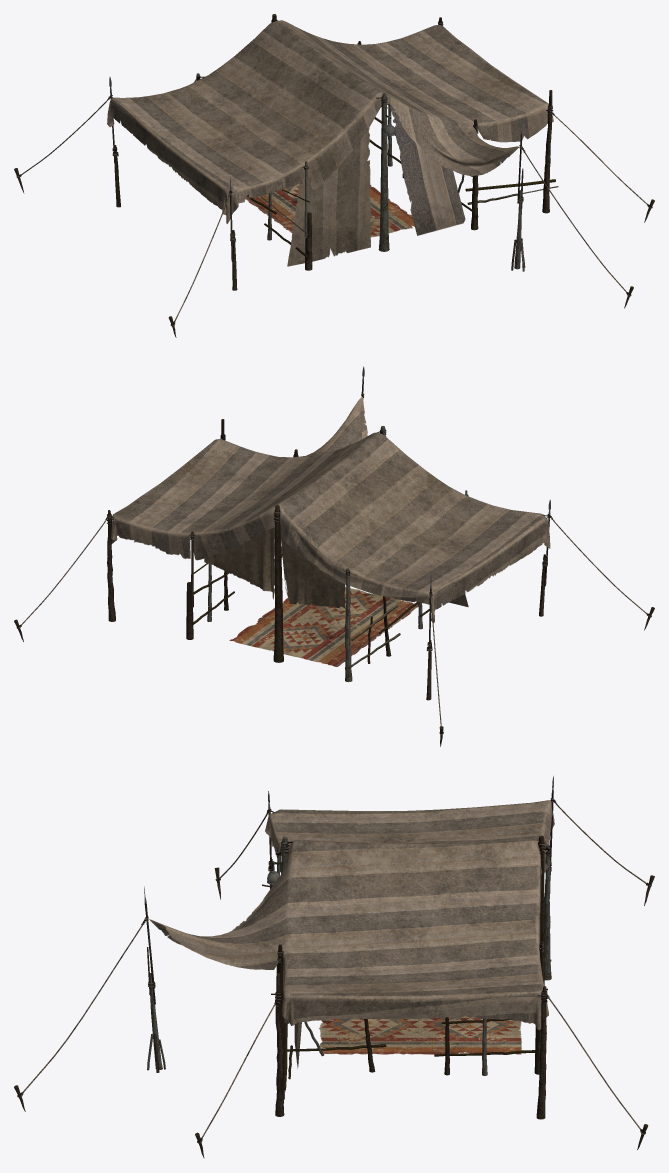
The model's file is medieval_tent.glb.
The picture shows the model from 3 angles, top to bottom: view 1: azimuth 30°, elevation 25°; view 2: azimuth 150°, elevation 25°; view 3: azimuth 270°, elevation 25°; orthographic projection. The views are drawn at different scales.
Parts seen in each view (by area): view 1: defaultMaterial (×2); view 2: defaultMaterial (×2); view 3: defaultMaterial (×2).
Part boxes in pixels (left/top/right/bottom): defaultMaterial (×2): left=14, top=14, right=654, bottom=337; defaultMaterial (×2): left=14, top=366, right=654, bottom=746; defaultMaterial (×2): left=14, top=776, right=654, bottom=1158.
Bounding box in the file's own units: 112 × 37.57 × 110.
2 materials, 2 textured.
